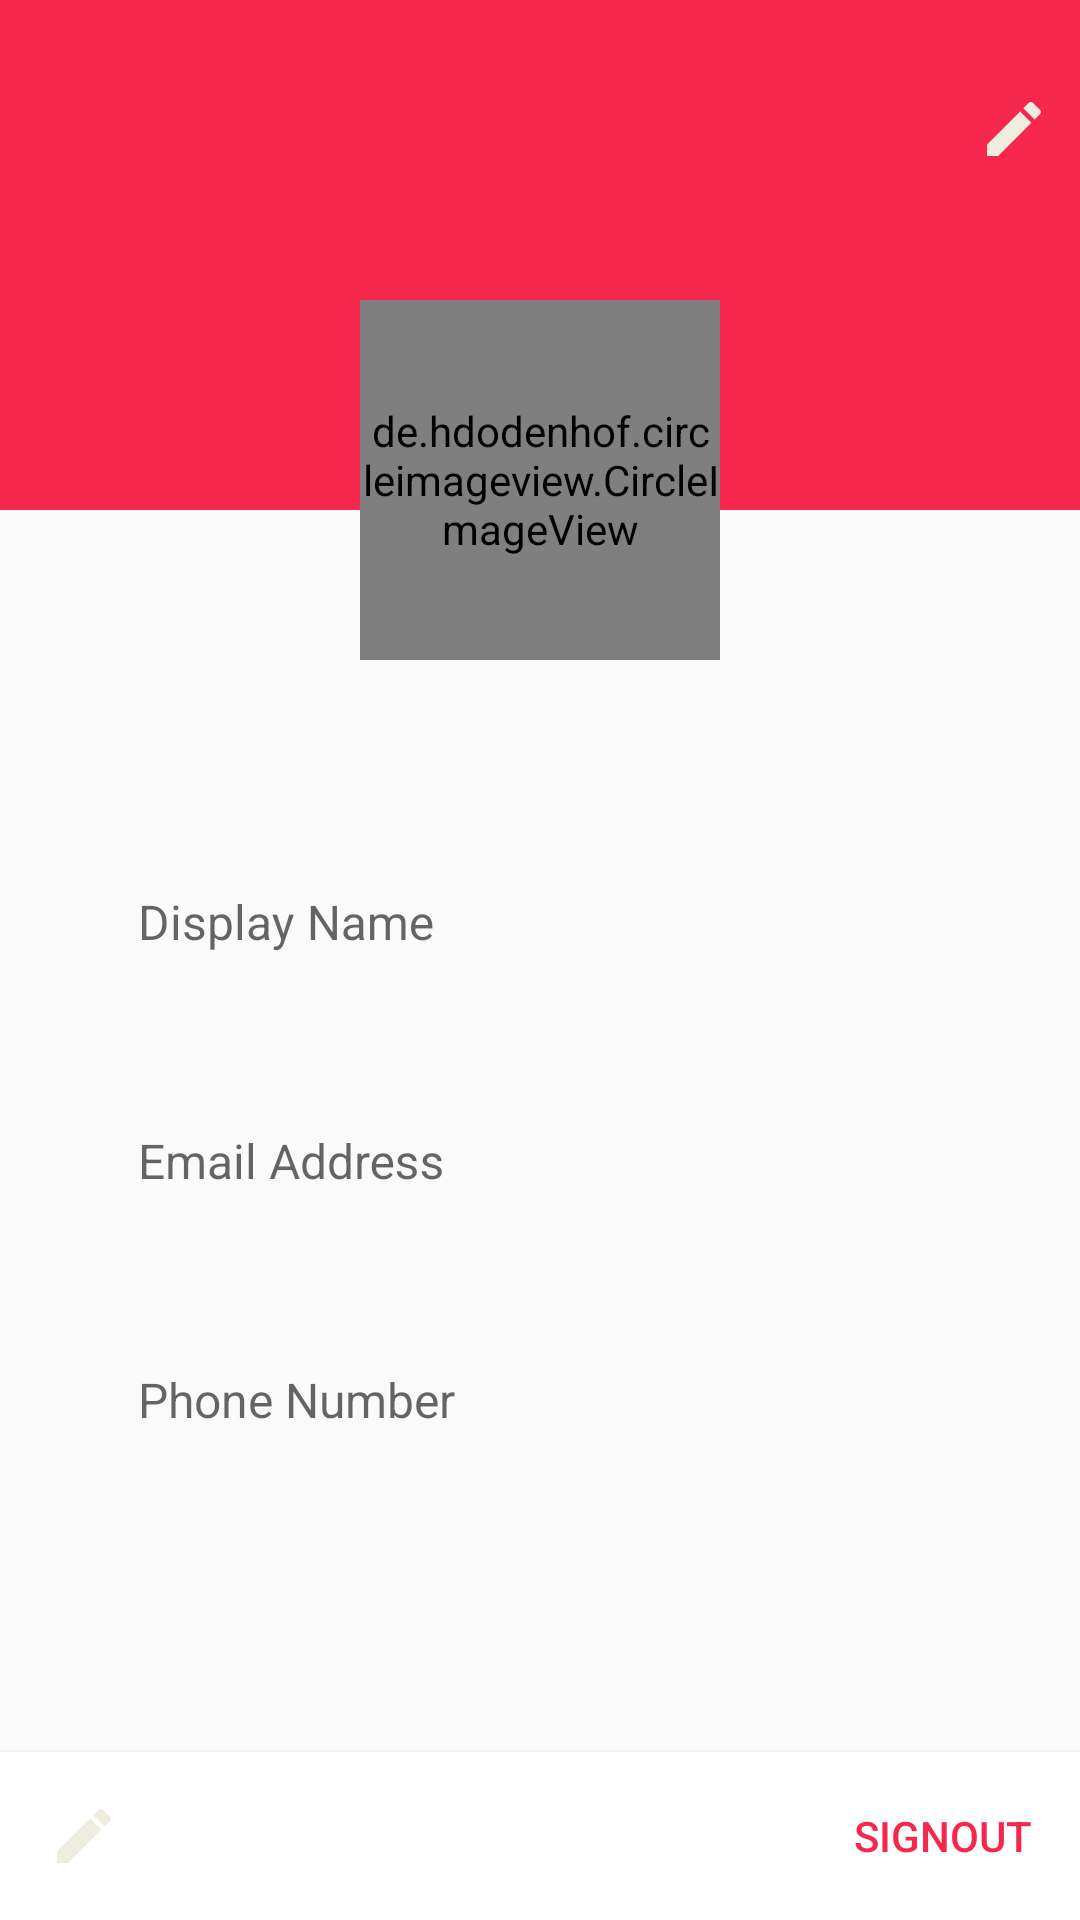

Point at icon controls on the screen. Image size 1080px×1920px, points as (x,y).
edit: (1014,129)
